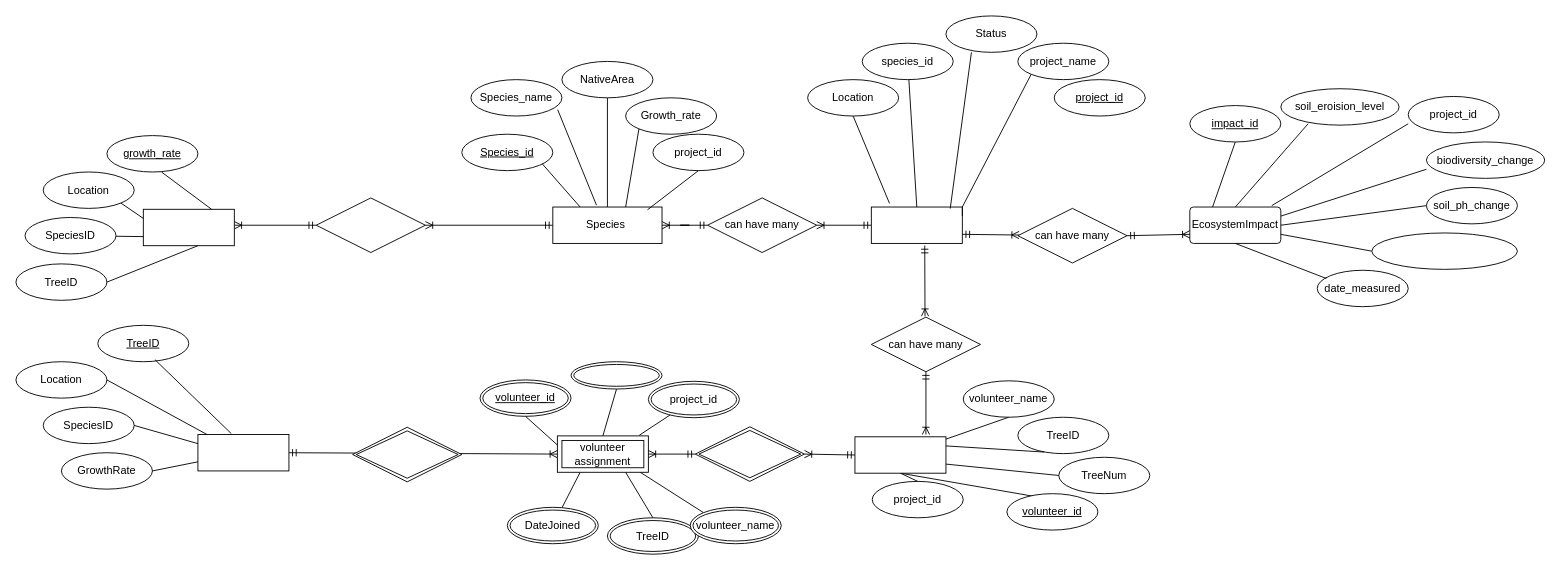
Some shapes in this 1561 by 571 pixel diagram are drawn without their labels. The box of each missing label's shape, as (x1, y1, x2, y2) in pixels:
can have: (694, 426, 804, 481)
carbon_sequestration: (1371, 232, 1517, 269)
Growth rate: (142, 208, 234, 246)
has one: (315, 197, 425, 253)
planting: (197, 434, 289, 471)
Project: (870, 206, 962, 243)
relate to: (352, 426, 462, 482)
Role: (570, 361, 662, 389)
Volunteer: (854, 436, 946, 473)
